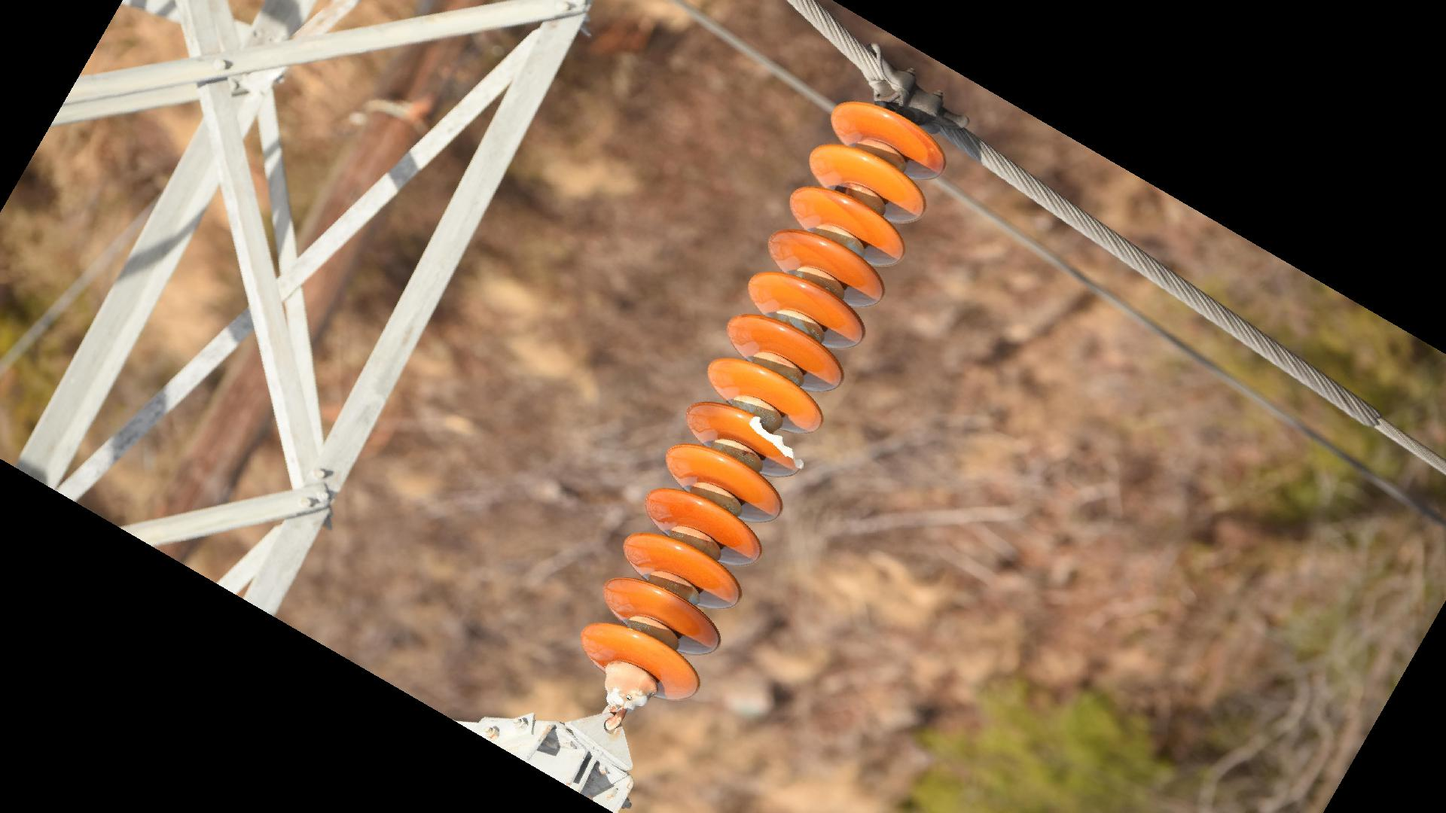insulator: (575, 96, 944, 709)
insulator_breakage: (739, 410, 810, 479)
